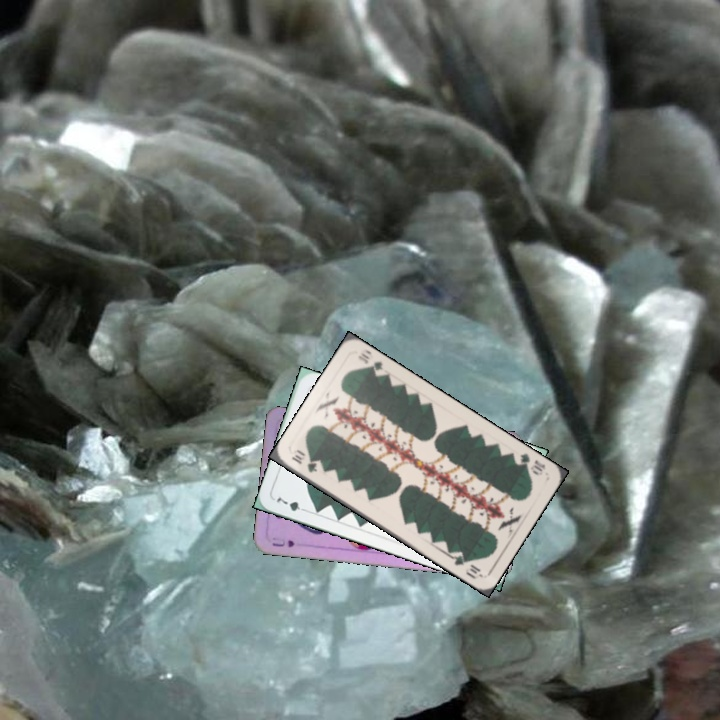G10: (509, 449, 548, 478), (287, 447, 320, 475)
G7: (272, 493, 311, 515)
SU: (268, 533, 297, 550)
